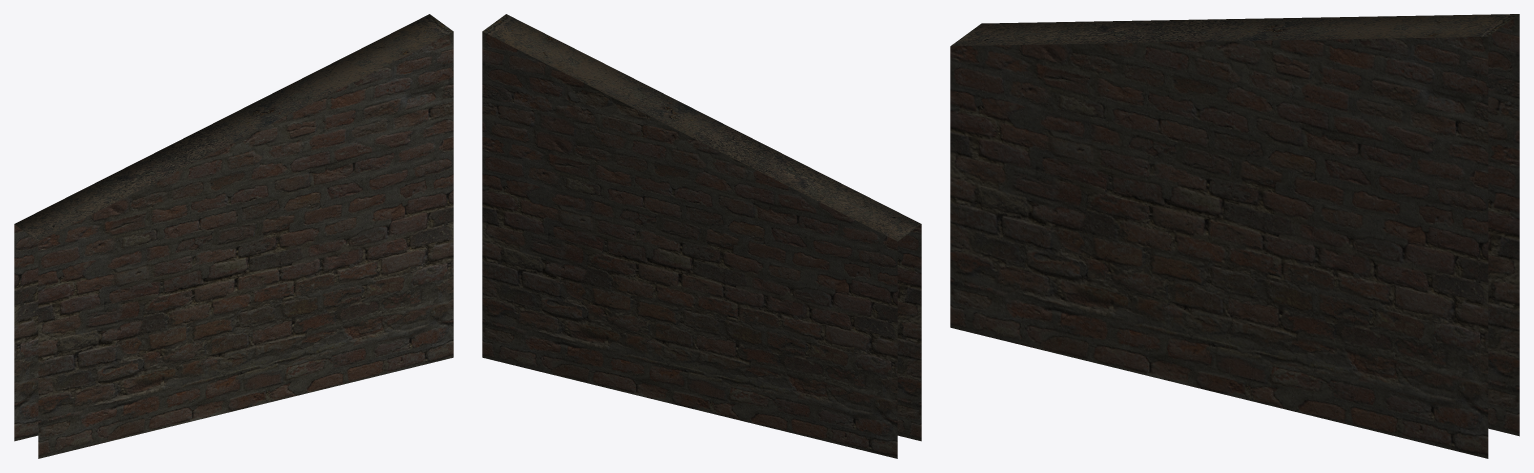
The model's file is wall_top_part_hr_3.fbx.
3 views of the same model, side by side, from view 1: azimuth 30°, elevation 25°; view 2: azimuth 150°, elevation 25°; view 3: azimuth 330°, elevation 25° (orthographic). The views are drawn at different scales.
Visible parts, largest first — view 1: wall_top_part_hr_3; view 2: wall_top_part_hr_3; view 3: wall_top_part_hr_3.
Boxes of the visible parts, x1=… form: wall_top_part_hr_3: x1=14, y1=14, x2=453, y2=458; wall_top_part_hr_3: x1=482, y1=14, x2=921, y2=458; wall_top_part_hr_3: x1=950, y1=14, x2=1519, y2=458.
Size of the model in its own units: 4 by 0.4 by 3.
